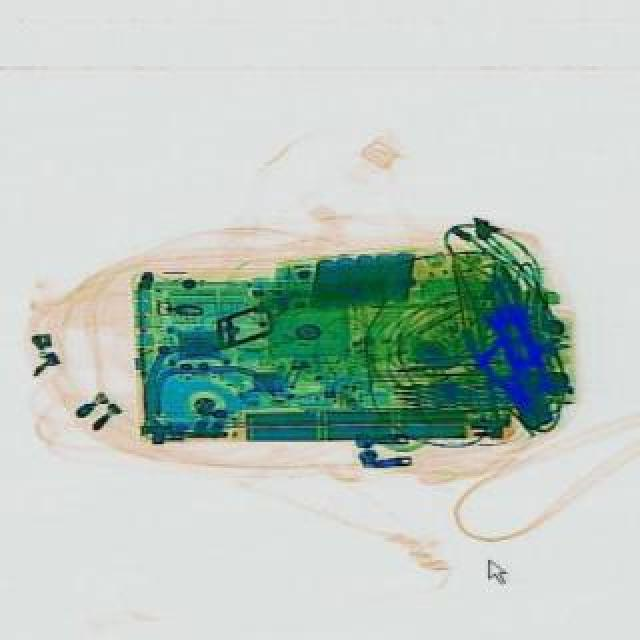wrench: (452, 310, 548, 424)
